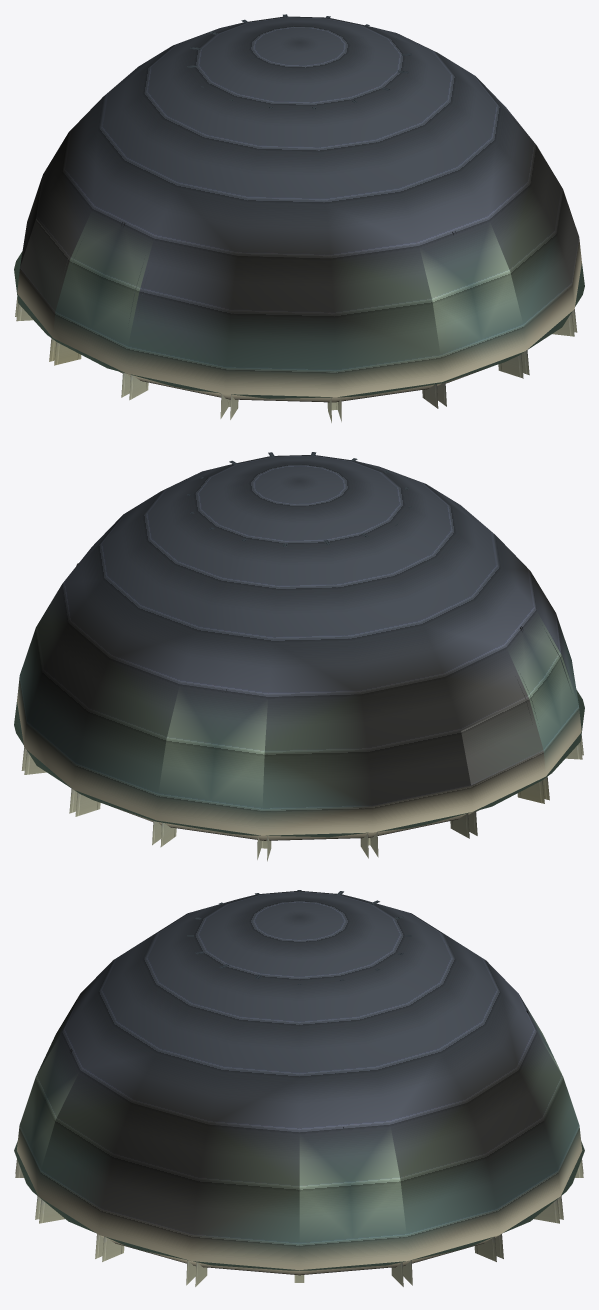
Rendered from stadium.glb.
The picture shows the model from 3 angles, top to bottom: view 1: azimuth 30°, elevation 25°; view 2: azimuth 150°, elevation 25°; view 3: azimuth 270°, elevation 25°; orthographic projection.
Parts seen in each view (by area): view 1: bt_sd01_dome01, bt_sd01_dome, bt_sd01_stage01; view 2: bt_sd01_dome01, bt_sd01_dome, bt_sd01_stage01; view 3: bt_sd01_dome01, bt_sd01_dome, bt_sd01_stage01.
Part boxes in pixels (x1,y1,x2,y2): bt_sd01_dome01: [17, 16, 581, 402]; bt_sd01_dome: [15, 14, 577, 422]; bt_sd01_stage01: [14, 222, 584, 398]; bt_sd01_dome01: [17, 455, 581, 840]; bt_sd01_dome: [21, 452, 583, 861]; bt_sd01_stage01: [14, 563, 584, 837]; bt_sd01_dome01: [17, 890, 582, 1275]; bt_sd01_dome: [15, 890, 583, 1286]; bt_sd01_stage01: [14, 1010, 584, 1270].
Size of the model in its own units: 725 by 394 by 728.
Materials: 14 (14 with a texture image).
